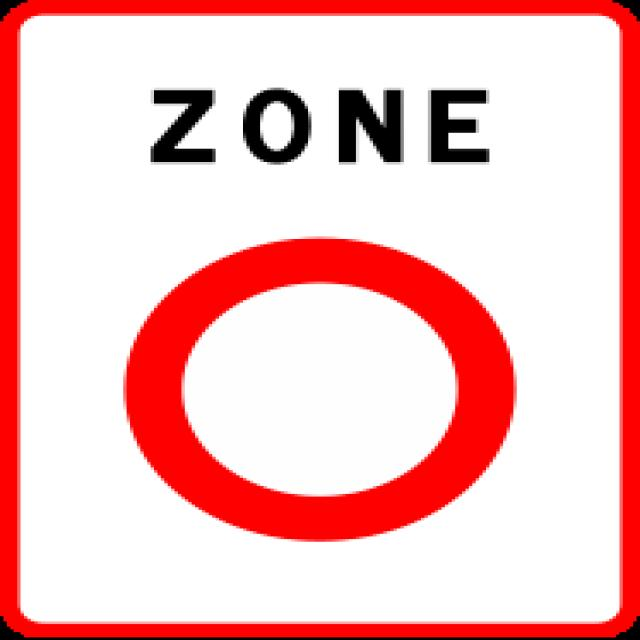end_speed: (6, 2, 640, 640)
speed_30: (0, 0, 640, 640)
